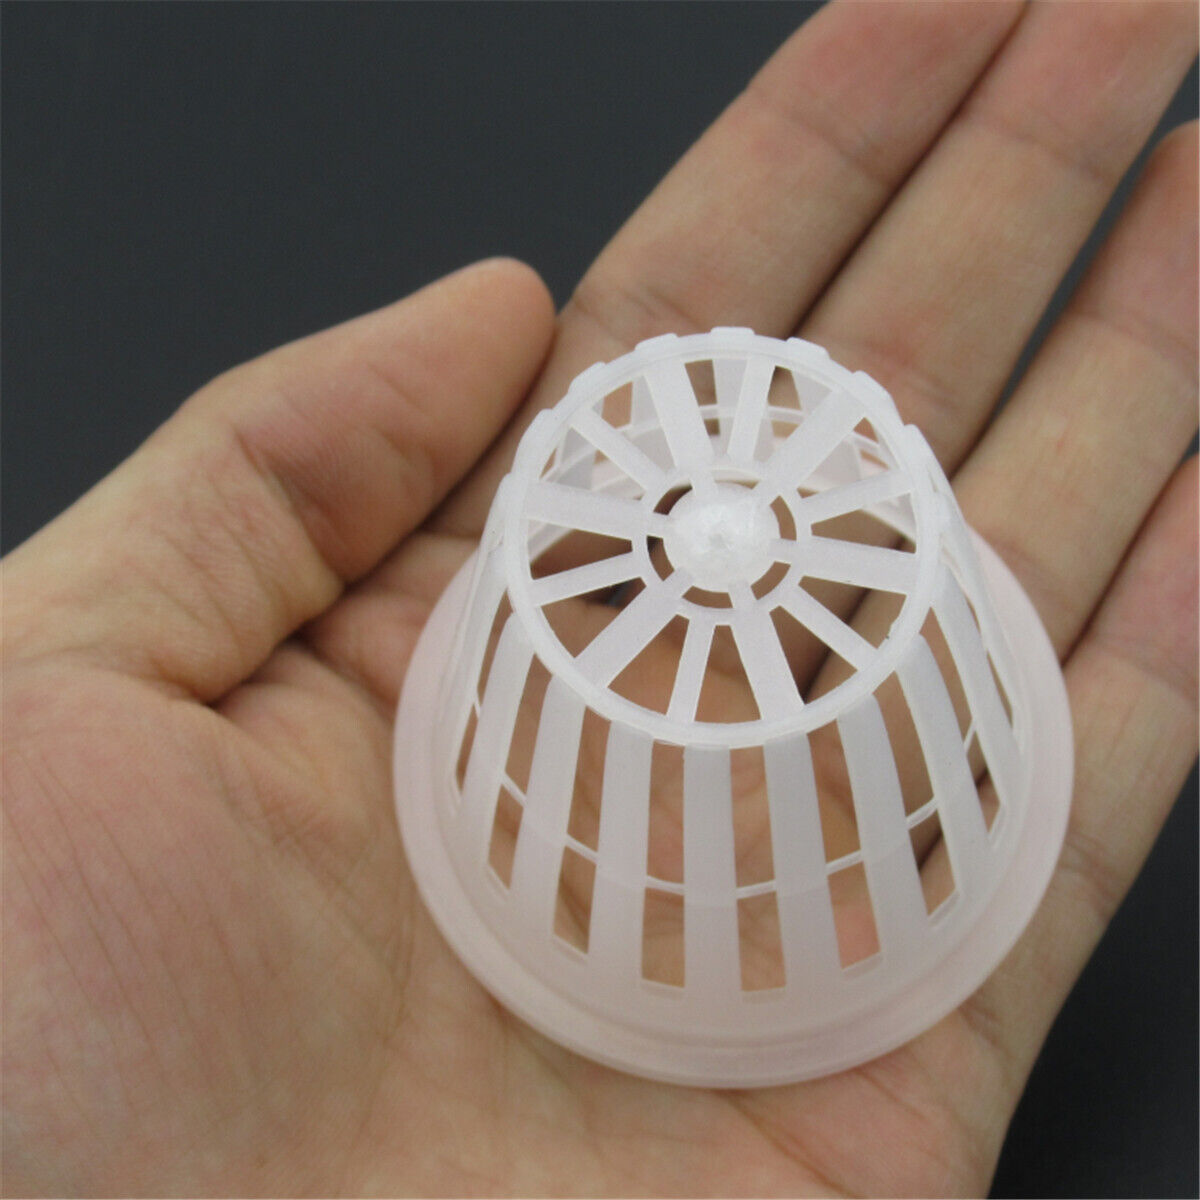basket: (395, 313, 1058, 1095)
